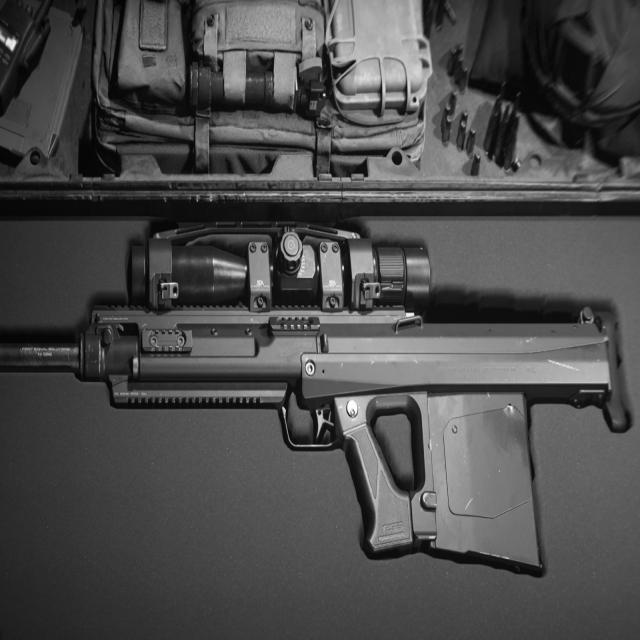Sniper: (2, 179, 640, 563)
